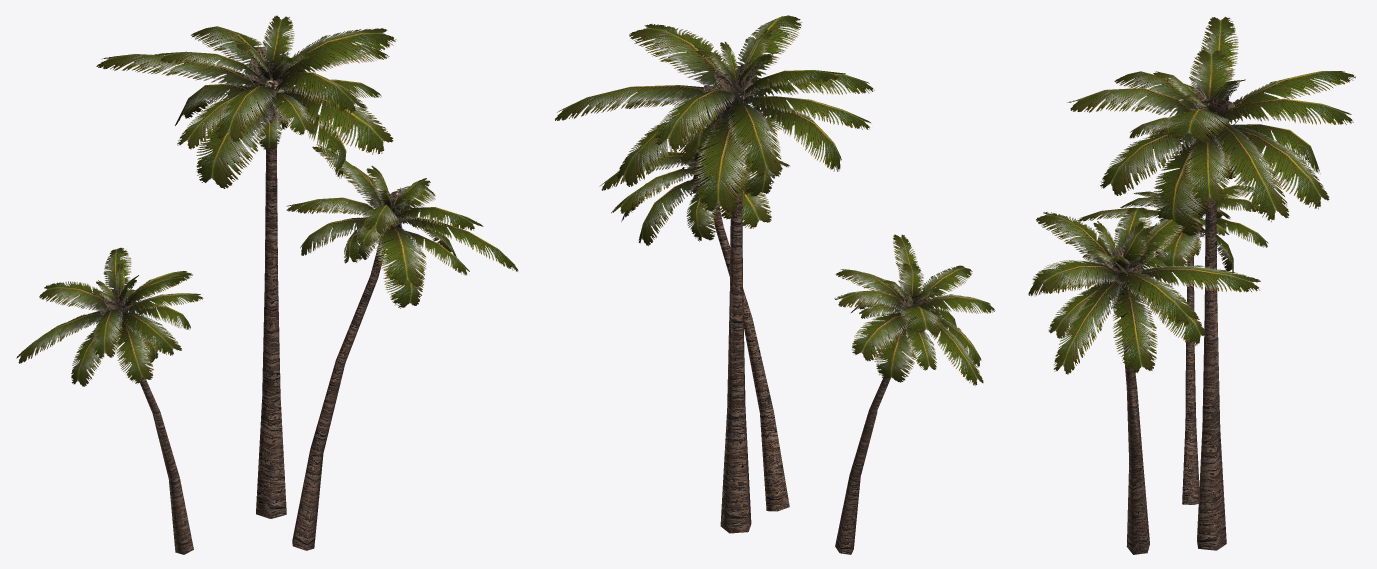
File: tREES.fbx
The picture shows the model from 3 angles, left to right: view 1: azimuth 30°, elevation 25°; view 2: azimuth 150°, elevation 25°; view 3: azimuth 270°, elevation 25°; orthographic projection.
Visible parts, largest first — view 1: palm_tree_lowpoly055, palm_tree_lowpoly054, palm_tree_lowpoly056; view 2: palm_tree_lowpoly055, palm_tree_lowpoly056, palm_tree_lowpoly054; view 3: palm_tree_lowpoly055, palm_tree_lowpoly054, palm_tree_lowpoly056.
Part boxes in pixels (x1=…): palm_tree_lowpoly055: x1=96, y1=15, x2=396, y2=518; palm_tree_lowpoly054: x1=286, y1=144, x2=518, y2=550; palm_tree_lowpoly056: x1=16, y1=247, x2=203, y2=554; palm_tree_lowpoly055: x1=555, y1=15, x2=874, y2=533; palm_tree_lowpoly056: x1=834, y1=234, x2=995, y2=554; palm_tree_lowpoly054: x1=599, y1=115, x2=795, y2=511; palm_tree_lowpoly055: x1=1067, y1=16, x2=1355, y2=550; palm_tree_lowpoly054: x1=1028, y1=204, x2=1260, y2=554; palm_tree_lowpoly056: x1=1078, y1=184, x2=1268, y2=504.
Bounding box in the file's own units: 755 × 827 × 520.
Materials: 1 (1 with a texture image).
